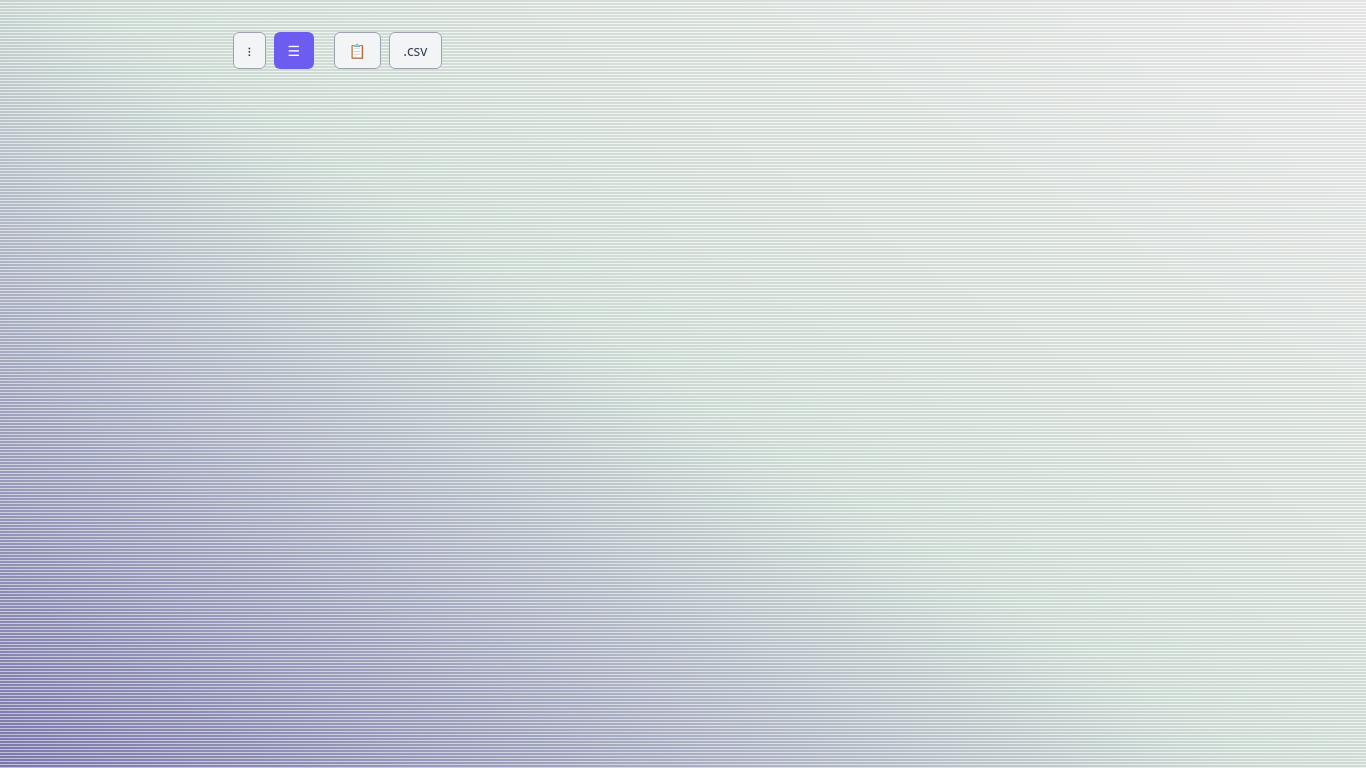
Toolbar › Copy Functionality › should show checkmark after copy
Click the button named "Copy ROM names to clipboard".
click(357, 50)  # box [334, 32, 381, 69]
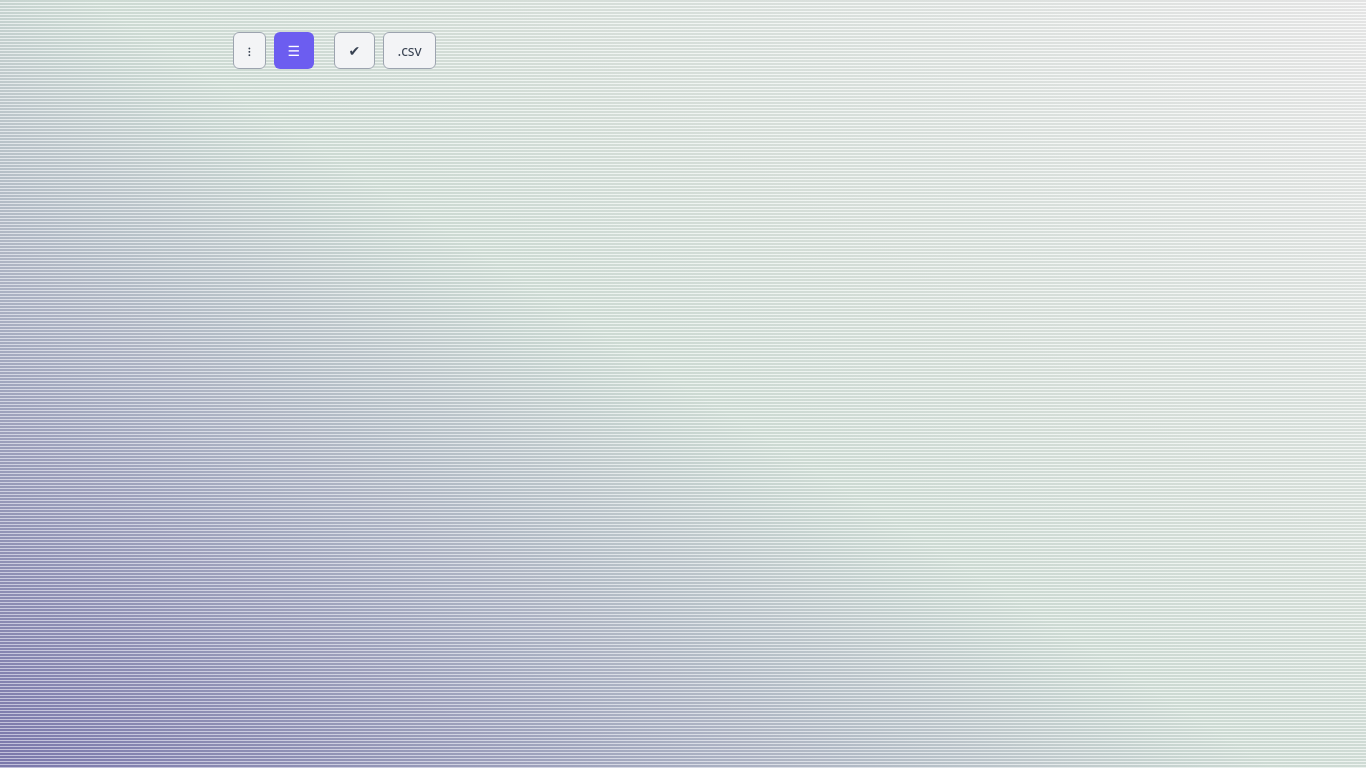
Expected: the text "✔" is shown, [348, 40, 360, 61]
